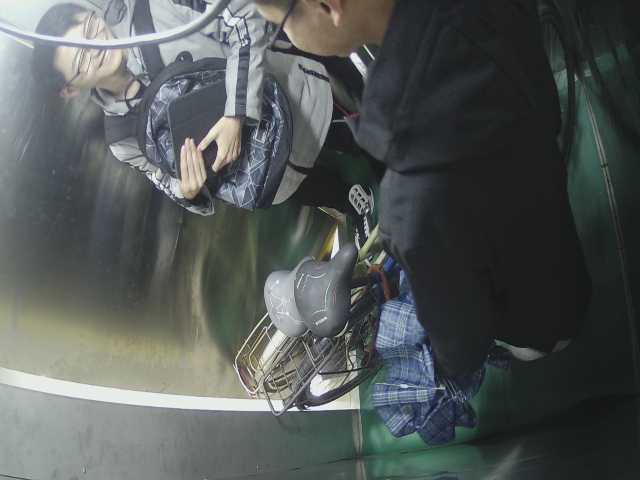bag: (138, 53, 293, 210)
bicycle: (227, 213, 404, 430)
person: (271, 5, 607, 381), (22, 2, 323, 202)
